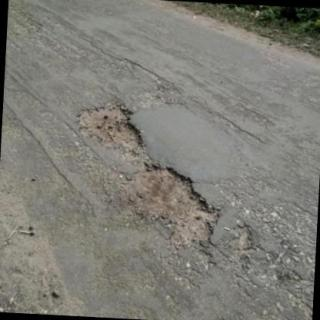pothole: (77, 105, 218, 247)
